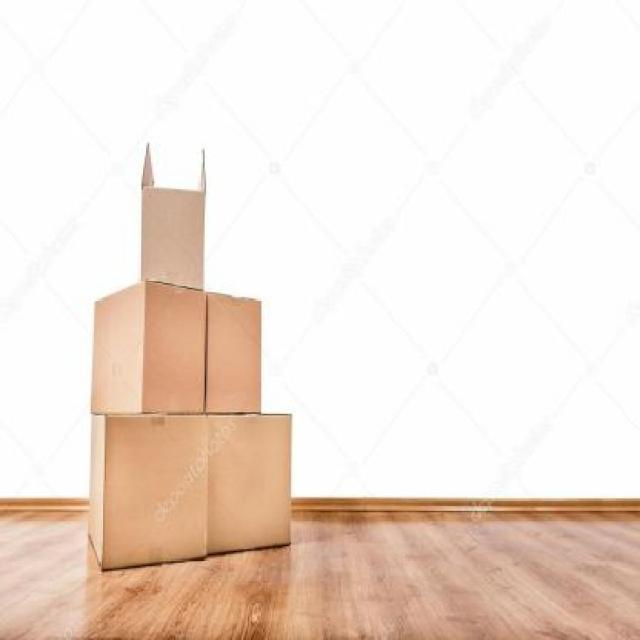box: (88, 413, 212, 571), (82, 277, 204, 417), (208, 410, 296, 564), (138, 142, 204, 290), (196, 286, 266, 414)
